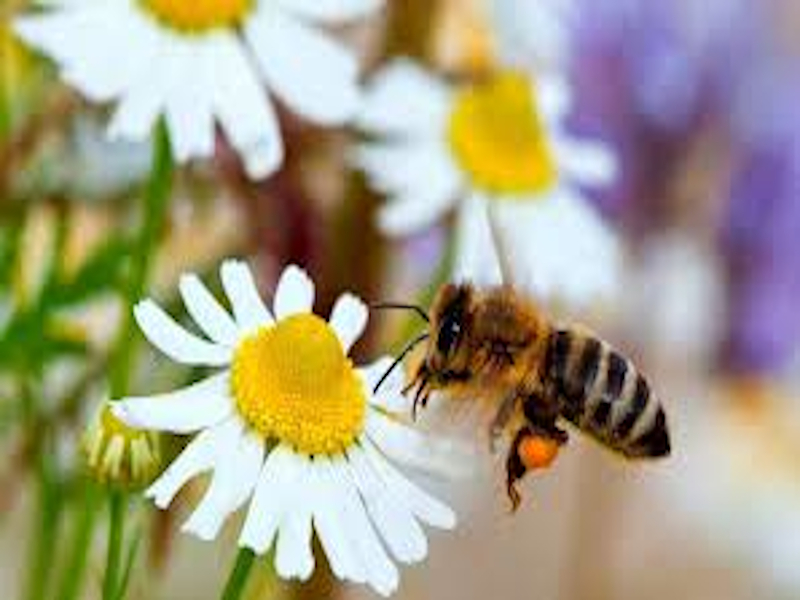abeja: (366, 275, 688, 511)
